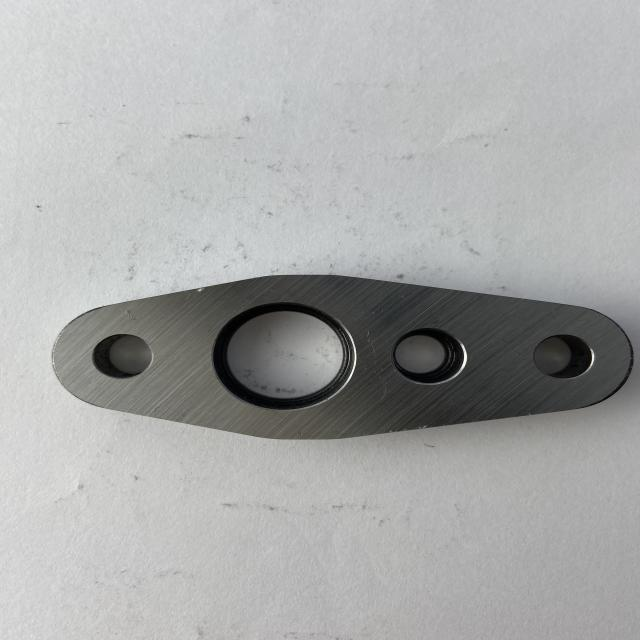chap: (124, 310, 132, 319), (296, 429, 304, 437), (198, 287, 206, 293), (366, 330, 372, 338)
